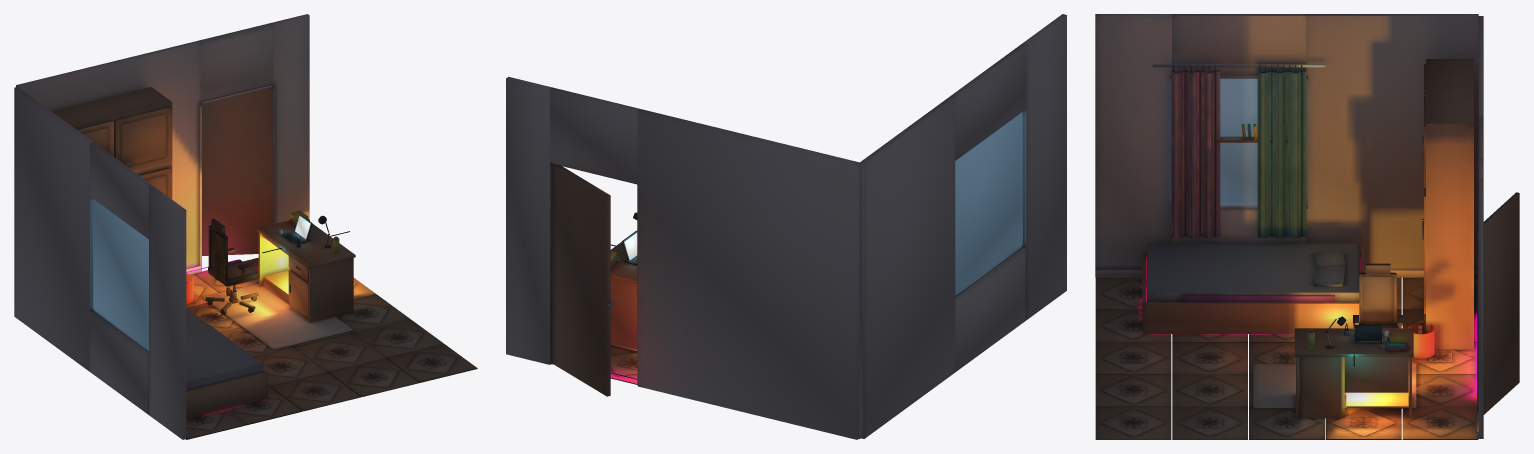
The model's file is room_baked_combined.glb.
The picture shows the model from 3 angles, left to right: view 1: azimuth 30°, elevation 25°; view 2: azimuth 150°, elevation 25°; view 3: azimuth 270°, elevation 25°; orthographic projection. The views are drawn at different scales.
Visible parts, largest first — view 1: Baked_Room_Mesh; view 2: Baked_Room_Mesh; view 3: Baked_Room_Mesh.
Boxes of the visible parts, bbox=[...] form: Baked_Room_Mesh: bbox=[14, 14, 477, 439]; Baked_Room_Mesh: bbox=[506, 14, 1066, 439]; Baked_Room_Mesh: bbox=[1095, 14, 1519, 439].
Bounding box in the file's own units: 4.05 × 3.01 × 4.43.
Materials: 1 (1 with a texture image).
